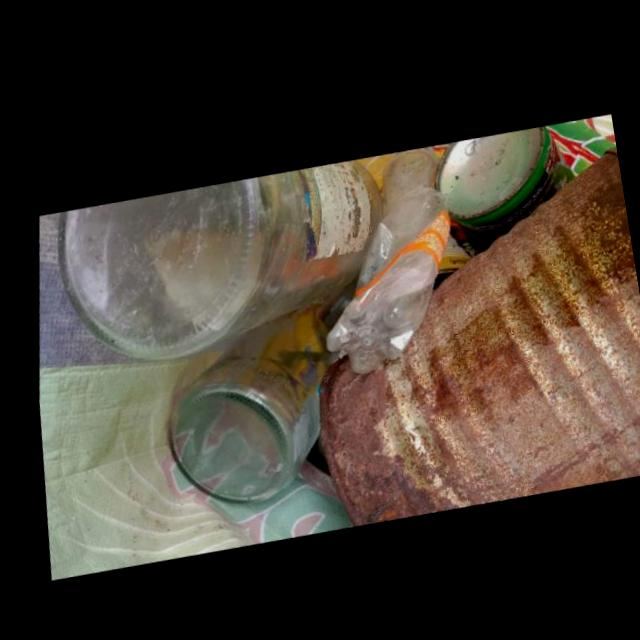chai_nhua_pet: (319, 142, 441, 371)
chai_thuy_tinh: (47, 155, 375, 352), (166, 276, 349, 495)
nhom: (316, 147, 640, 516), (429, 125, 567, 234)
